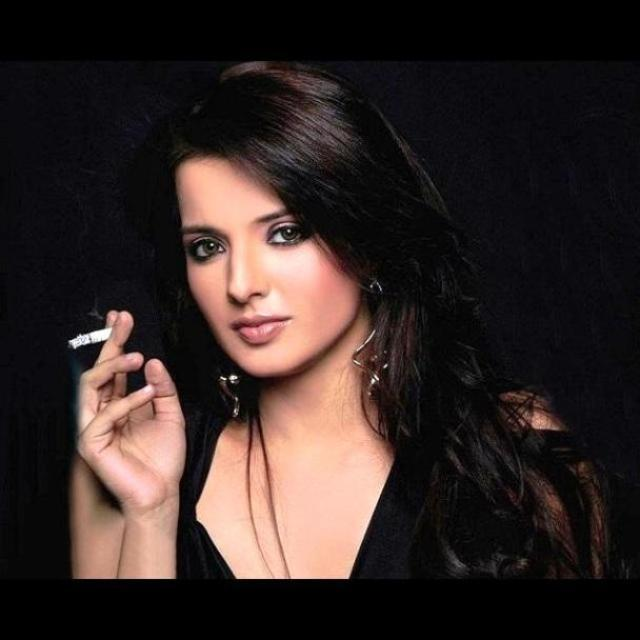rokok: (59, 323, 120, 352)
